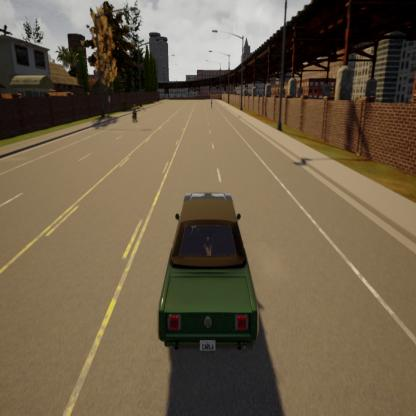Cars: (146, 169, 268, 364)
